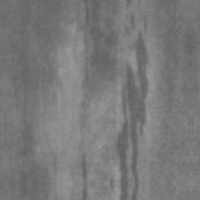inclusion: (104, 12, 154, 182), (77, 2, 116, 123), (78, 150, 91, 182)
